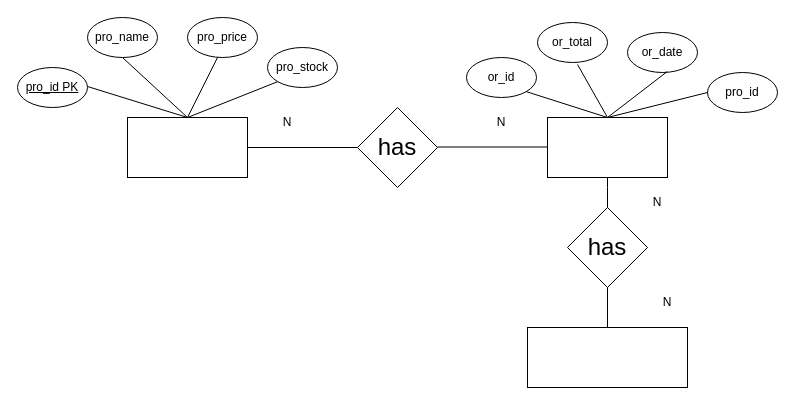
Image size: 795x405. Some labels were removed from this diagram. The centre of each missing label's shape, as x and y in pixels:
order_items: [607,357]
orders: [607,147]
products: [187,147]
